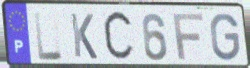6: (140, 11, 168, 62)
C: (101, 9, 137, 65)
F: (171, 12, 205, 62)
G: (209, 12, 241, 63)
K: (69, 11, 99, 61)
L: (32, 10, 65, 62)
